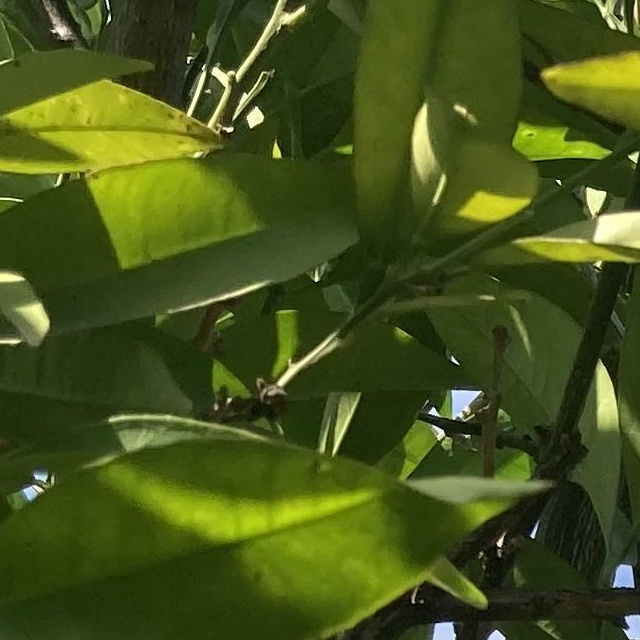orange: (0, 635, 15, 640)
